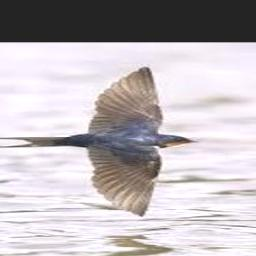Swallow: (0, 67, 197, 217)
